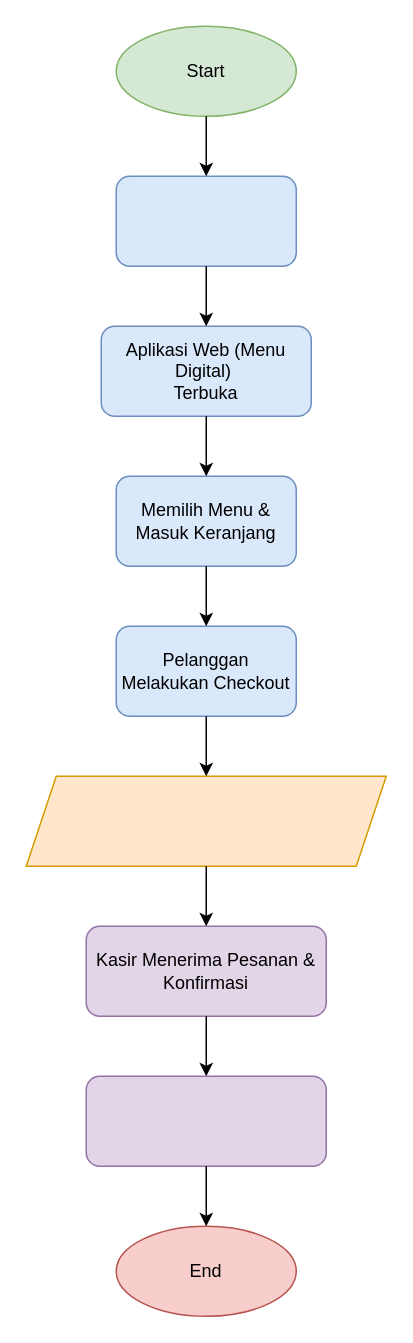
The diagram is 413 pixels wide and 1343 high, and some of its shapes have lost their labels. Each missing label, with the centre of its shape:
"Pelanggan Scan Barcode QR" belongs at [205,220].
"Pembayaran & Cetak Struk" belongs at [205,1120].
"Simpan ke Database (Firebase / WA)" belongs at [205,820].
